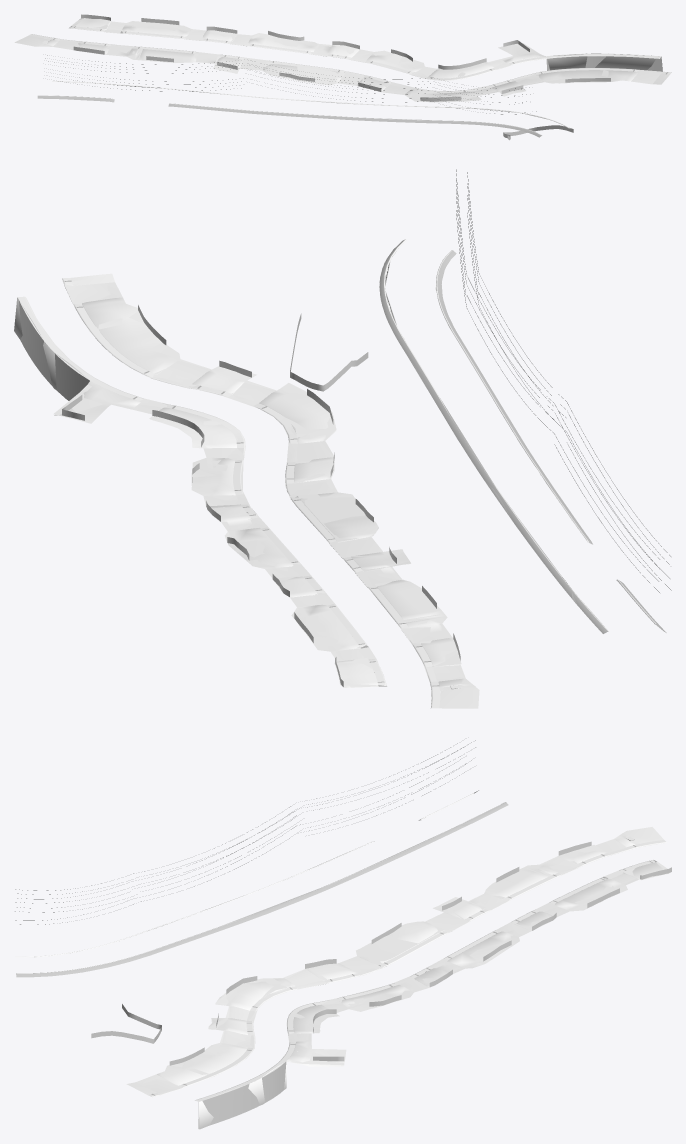
File: sidewalk_suburb2.dae
3 renders of one model, top to bottom at view 1: azimuth 30°, elevation 25°; view 2: azimuth 150°, elevation 25°; view 3: azimuth 270°, elevation 25°, orthographic. The views are drawn at different scales.
Parts seen in each view (by area): view 1: sidewalk_suburb2_a4000, sidewalk_suburb2_a1900; view 2: sidewalk_suburb2_a4000, sidewalk_suburb2_a1900; view 3: sidewalk_suburb2_a4000, sidewalk_suburb2_a1900.
Part boxes in pixels (box(x1,y1,x2,y2)): sidewalk_suburb2_a4000: box(29, 14, 671, 140); sidewalk_suburb2_a1900: box(14, 18, 669, 137); sidewalk_suburb2_a4000: box(17, 169, 671, 708); sidewalk_suburb2_a1900: box(14, 256, 662, 708); sidewalk_suburb2_a4000: box(15, 740, 671, 1128); sidewalk_suburb2_a1900: box(16, 791, 669, 1129).
Bounding box in the file's own units: 215 × 191 × 39.86.
